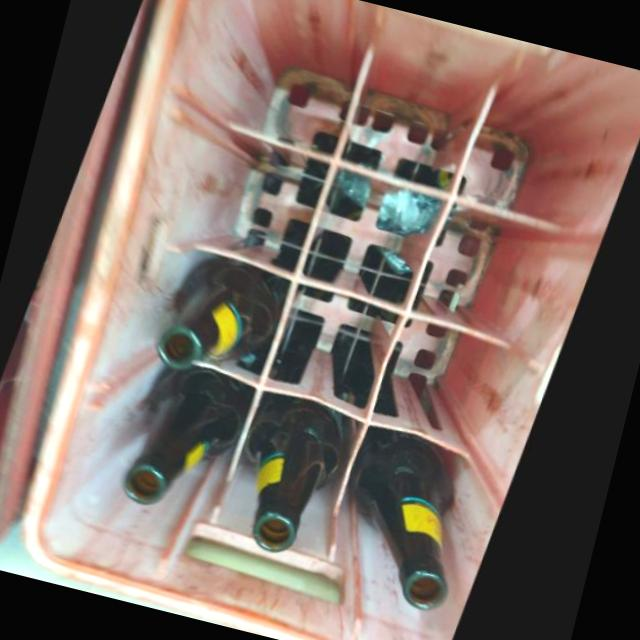chai_thuy_tinh: (354, 425, 460, 613), (125, 366, 260, 509), (250, 394, 356, 555), (161, 262, 293, 372)
